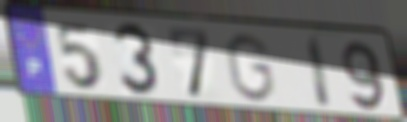3: (110, 21, 163, 100)
5: (55, 22, 105, 91)
7: (164, 25, 213, 102)
9: (340, 38, 387, 113)
G: (222, 31, 278, 106)
I: (305, 33, 335, 112)
